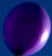Balloon: (3, 3, 52, 56)
